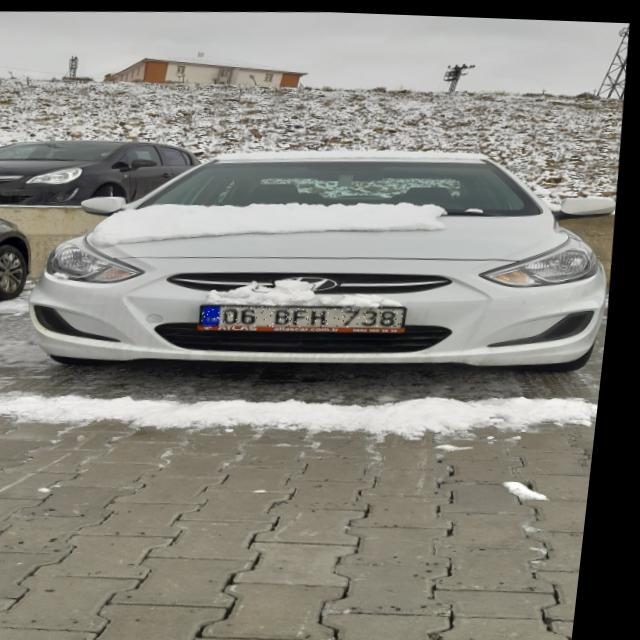license_plate: (205, 297, 413, 331)
